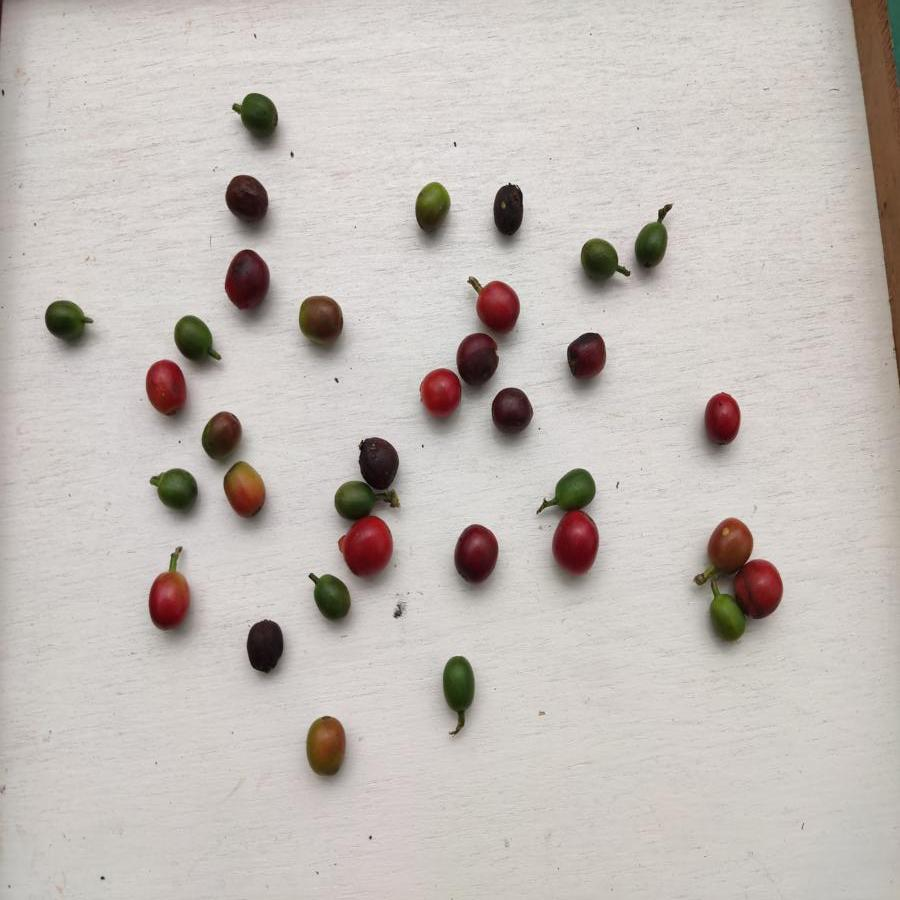Inmaduro: (440, 650, 477, 717), (235, 90, 281, 140), (171, 315, 217, 362), (153, 464, 200, 509), (41, 297, 87, 342), (550, 466, 598, 509), (576, 239, 620, 283), (632, 221, 669, 271), (310, 575, 351, 620), (705, 594, 743, 642), (331, 479, 374, 518)
Maduro: (550, 507, 598, 580), (338, 519, 395, 576), (472, 277, 523, 333), (740, 559, 782, 624), (143, 359, 189, 415), (149, 570, 190, 632), (700, 388, 741, 449), (419, 369, 463, 413)
Pinton: (302, 707, 354, 784), (223, 461, 269, 518), (704, 515, 757, 564), (412, 178, 454, 234)
Sobremaduro: (243, 614, 289, 679), (291, 295, 349, 346), (226, 247, 271, 311), (454, 523, 499, 585), (488, 383, 536, 437), (564, 331, 612, 383), (223, 173, 272, 221), (457, 332, 499, 388), (200, 410, 246, 457), (358, 435, 398, 488), (493, 182, 524, 237)
